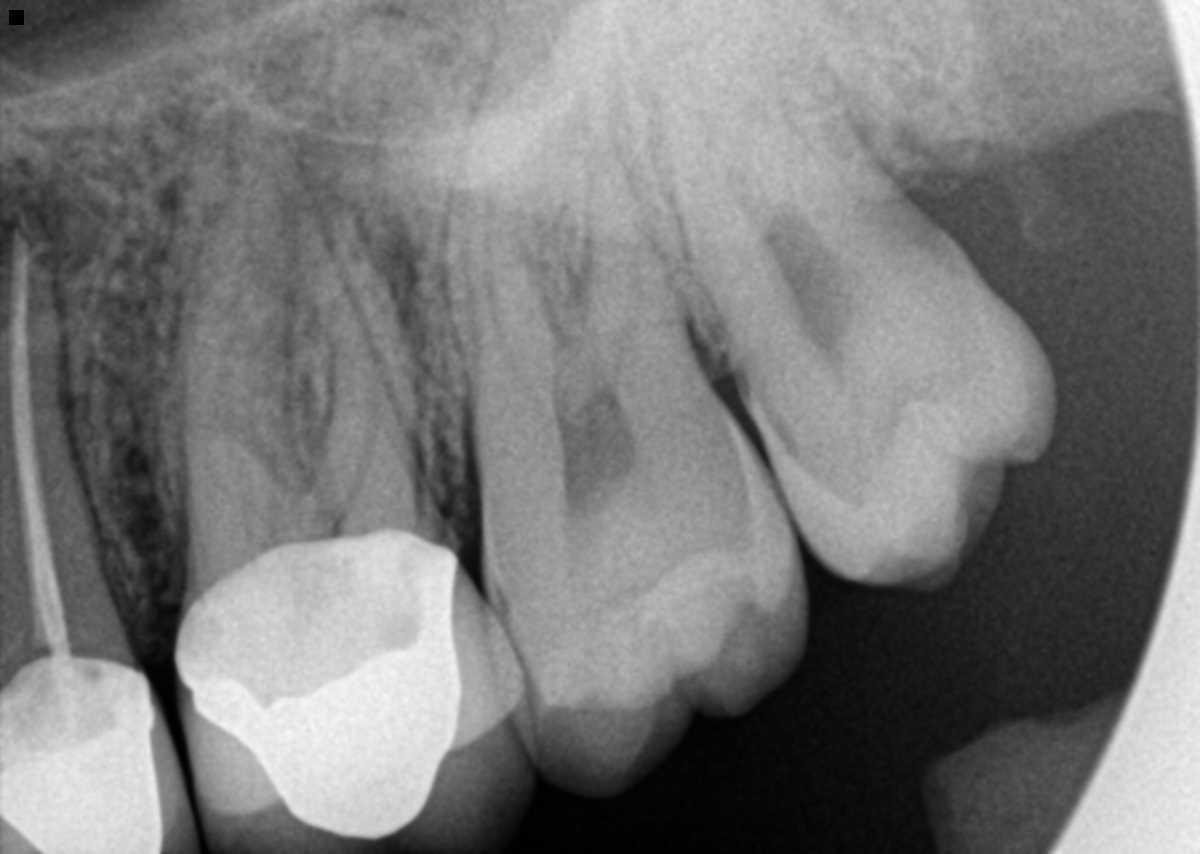Apical Lesion: (235, 122, 429, 343), (0, 142, 129, 283)
Distal Canal: (604, 194, 643, 395)
Distal Root: (570, 0, 692, 360), (286, 196, 422, 495)
Main Root: (610, 0, 863, 297), (0, 223, 126, 651)
Mesial Canal: (482, 173, 559, 418)
Mesial Root: (440, 32, 583, 463), (184, 184, 313, 588)
Palatal Root: (161, 103, 433, 576)
Root Canal Filling: (9, 233, 70, 646)
